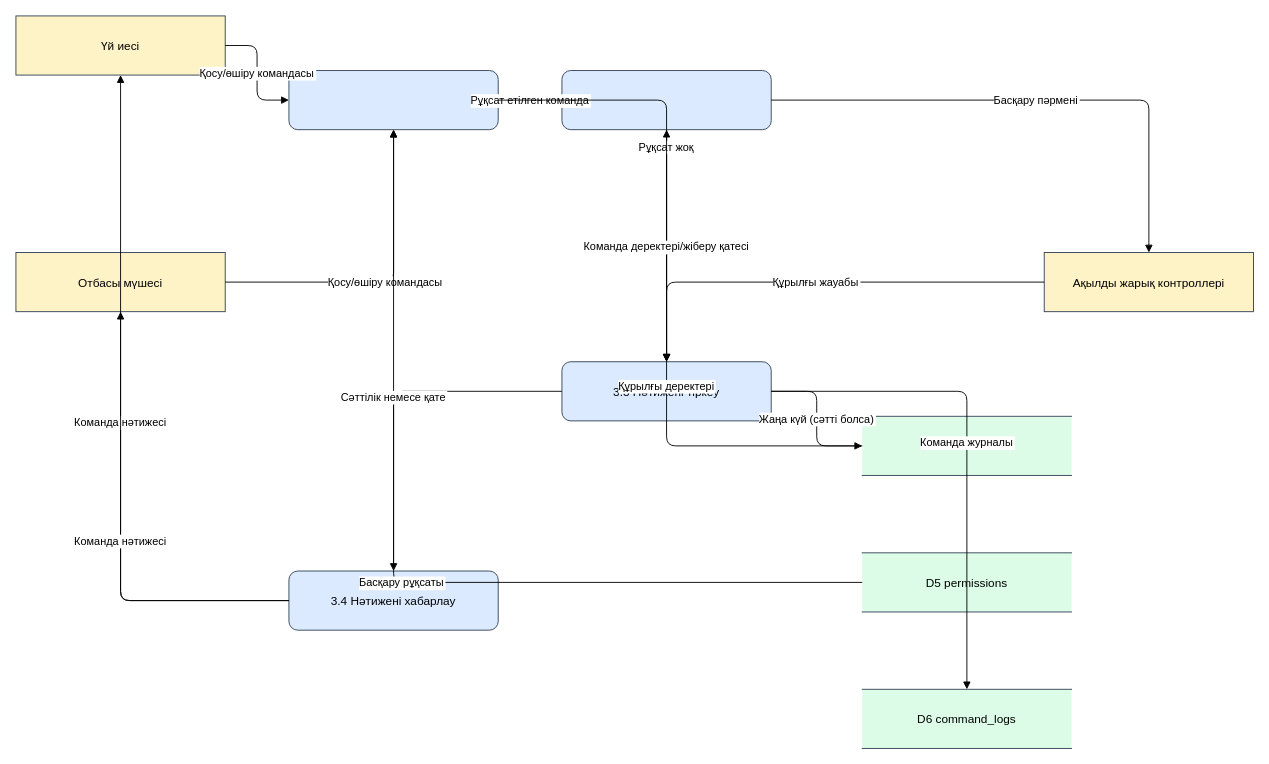
Image size: 1269x764. Some labels were removed from this diagram. The shapes that lost their labels are listed below. From the top down, each one's box as (x1, y1, x2, y2) in pixels, then its label:
(288, 70, 498, 130): 3.1 Рұқсатты тексеру
(561, 70, 771, 130): 3.2 Пәрменді жіберу
